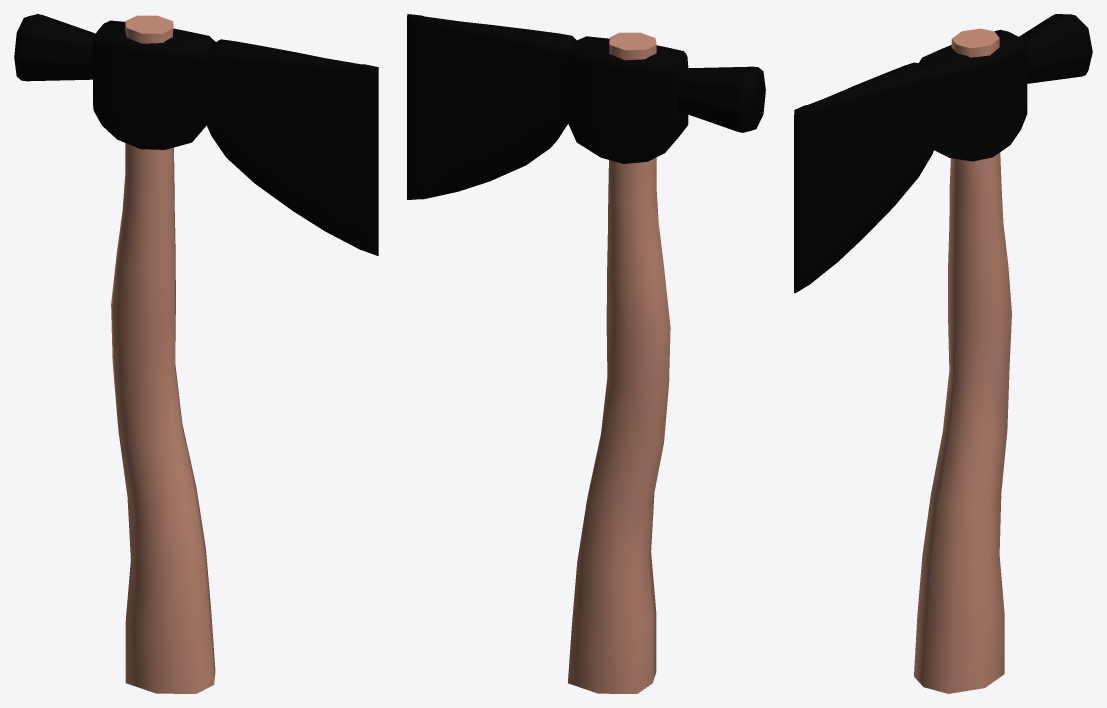
The picture shows the model from 3 angles, left to right: view 1: azimuth 30°, elevation 25°; view 2: azimuth 210°, elevation 25°; view 3: azimuth 270°, elevation 25°; orthographic projection. The views are drawn at different scales.
Parts seen in each view (by area): view 1: head, handle.004; view 2: head, handle.004; view 3: handle.004, head.
Boxes of the visible parts, x1,y1,x2,y2 form: head: (14, 14, 378, 255); handle.004: (111, 15, 215, 693); head: (407, 14, 765, 199); handle.004: (568, 32, 670, 693); handle.004: (914, 28, 1011, 693); head: (794, 14, 1092, 293).
Bounding box in the file's own units: 25.96 × 30.17 × 70.32.
